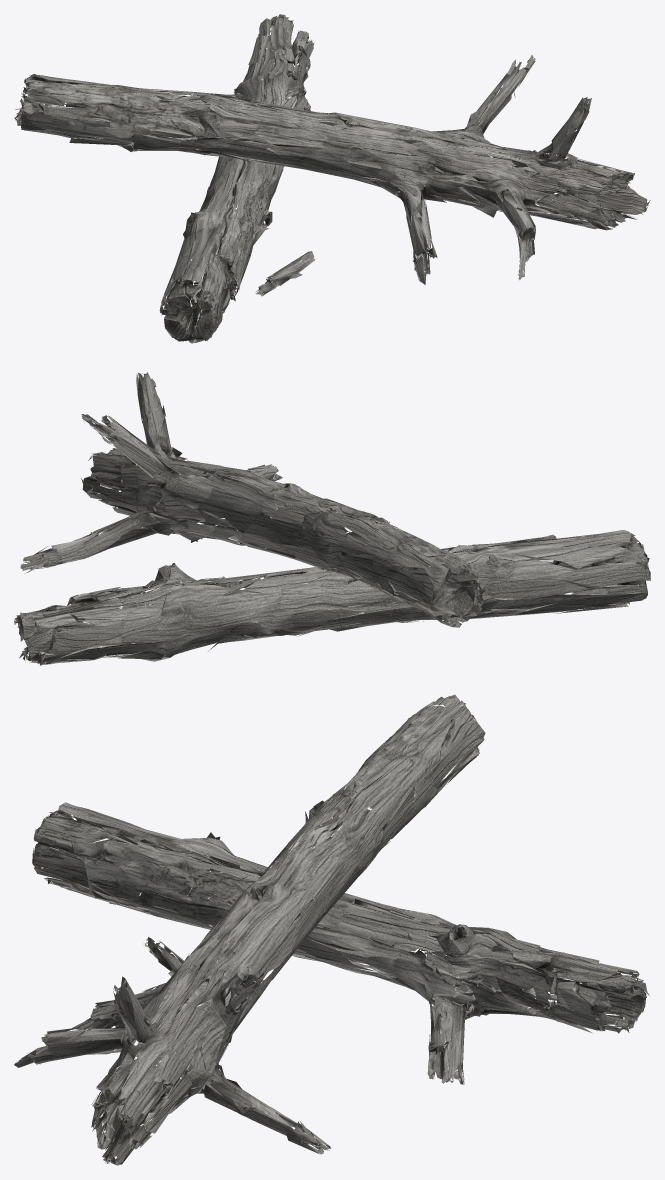
File: driftwood.glb
3 views of the same model, one above another, from view 1: azimuth 30°, elevation 25°; view 2: azimuth 150°, elevation 25°; view 3: azimuth 270°, elevation 25° (orthographic). The views are drawn at different scales.
Visible parts, largest first — view 1: Mesh_0; view 2: Mesh_0; view 3: Mesh_0.
Boxes of the visible parts, x1=… form: Mesh_0: x1=14, y1=14, x2=650, y2=343; Mesh_0: x1=14, y1=372, x2=650, y2=665; Mesh_0: x1=14, y1=694, x2=649, y2=1165.
Bounding box in the file's own units: 3.38 × 0.9882 × 3.
Materials: 1 (1 with a texture image).
